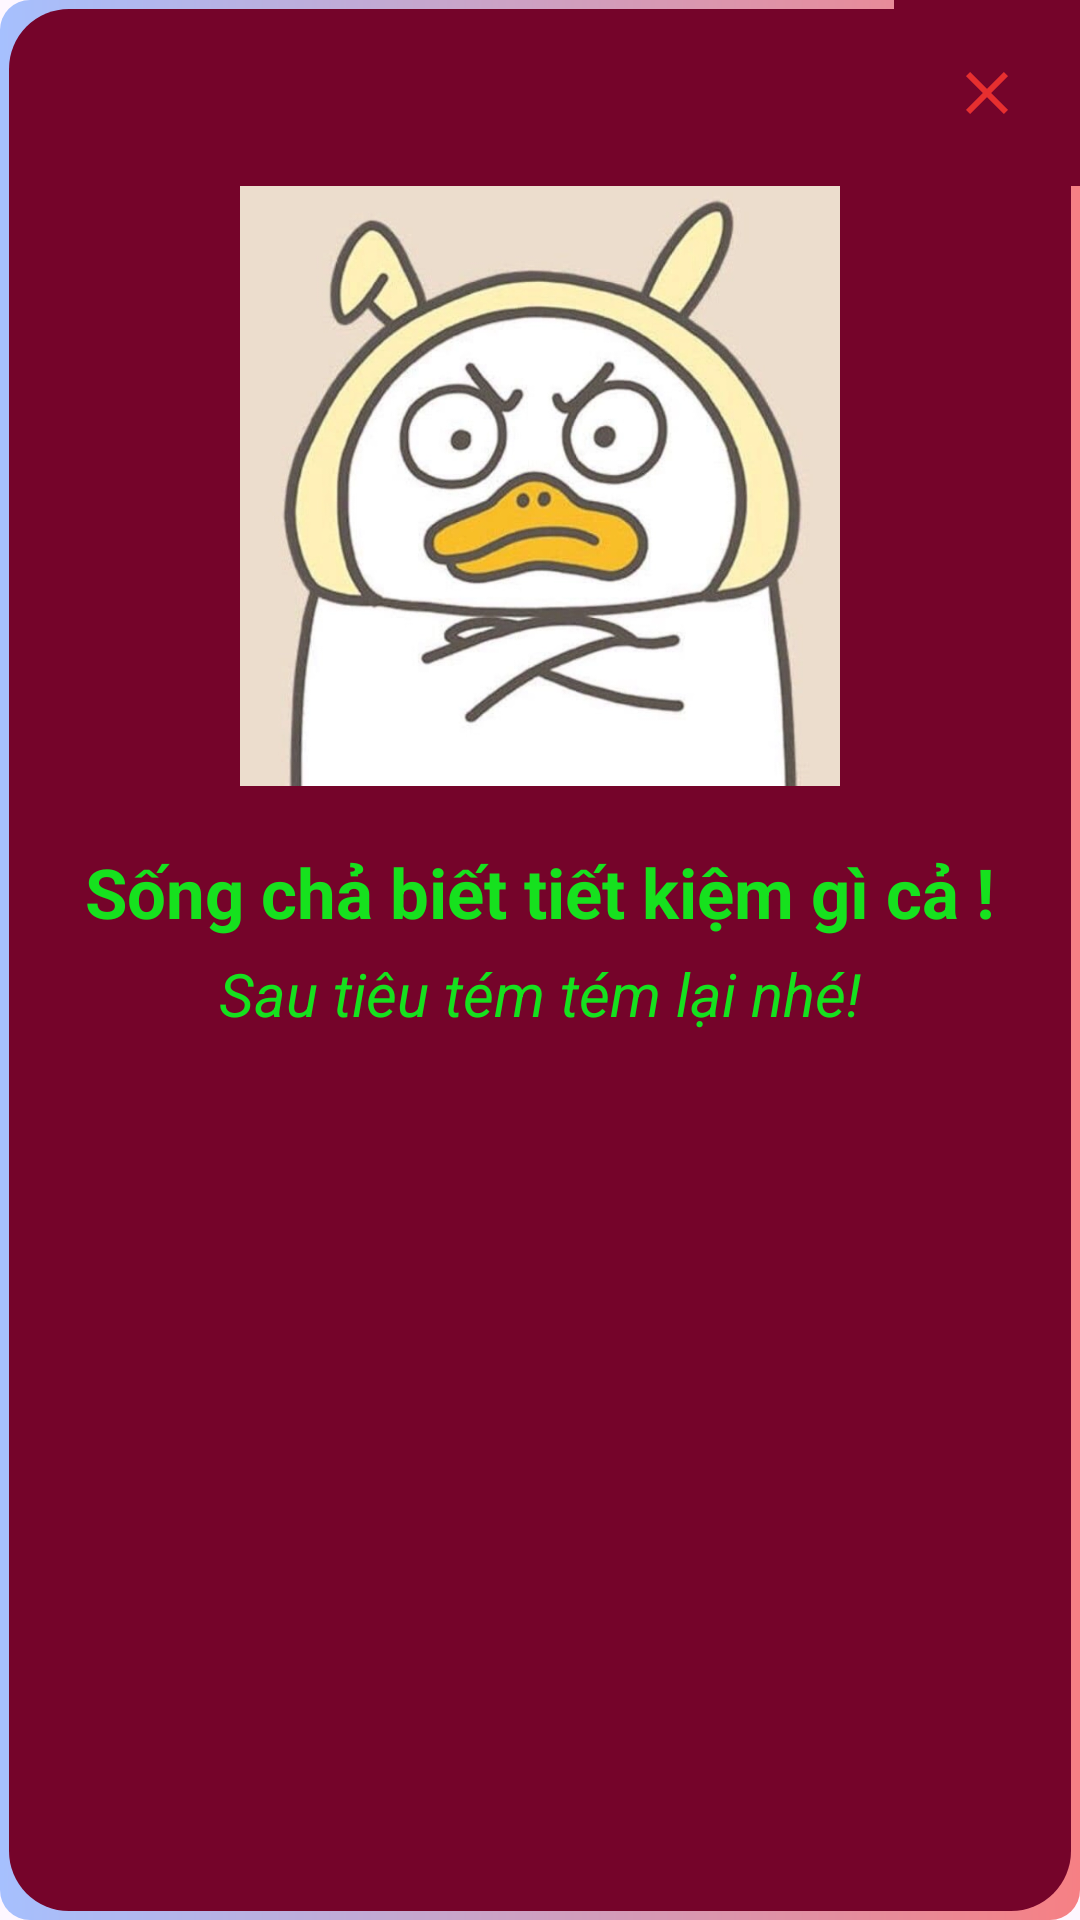

Icons on this 1080*1920 Android screen, each with its box as (x1,y1,x2,y2):
close: (966,72,1008,114)
